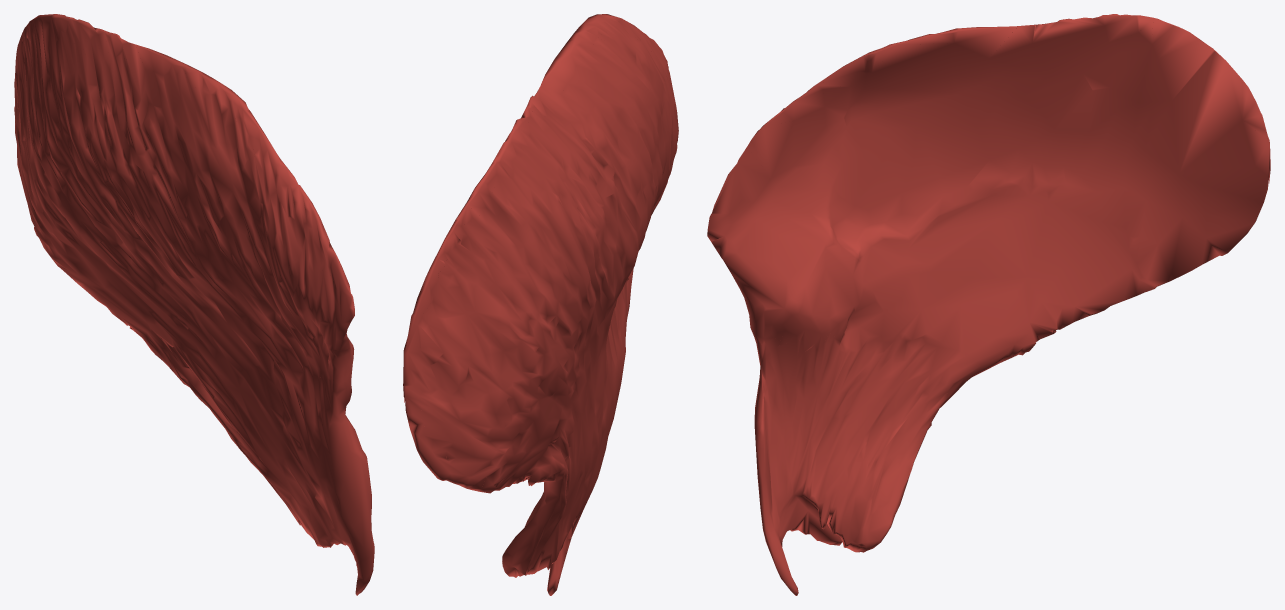
Rendered from musculos-temporalis-muscle-r.glb.
3 views of the same model, side by side, from view 1: azimuth 30°, elevation 25°; view 2: azimuth 150°, elevation 25°; view 3: azimuth 270°, elevation 25° (orthographic). The views are drawn at different scales.
Parts seen in each view (by area): view 1: Temporalis muscle.r; view 2: Temporalis muscle.r; view 3: Temporalis muscle.r.
Boxes of the visible parts, x1,y1,x2,y2 form: Temporalis muscle.r: (14,14,374,595); Temporalis muscle.r: (403,14,678,595); Temporalis muscle.r: (707,14,1270,595).
Bounding box in the file's own units: 0.0391 × 0.116 × 0.1139.
